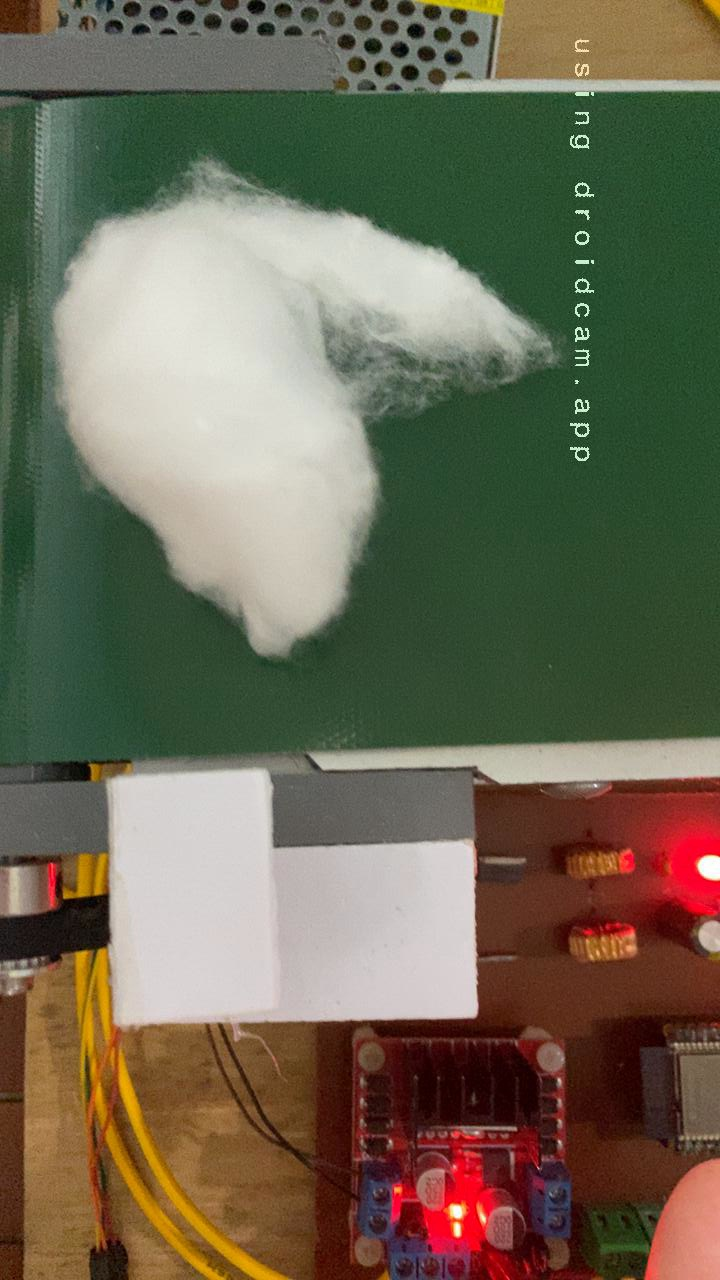cotton: (44, 153, 559, 664)
